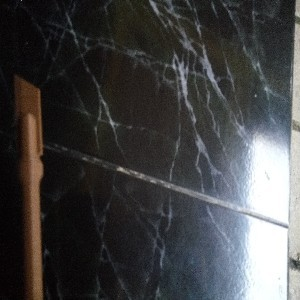cutter: (12, 71, 45, 300)
